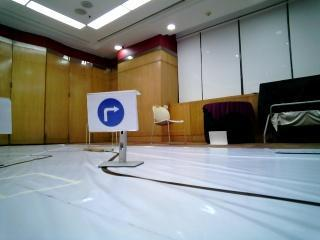right: (90, 91, 142, 132)
